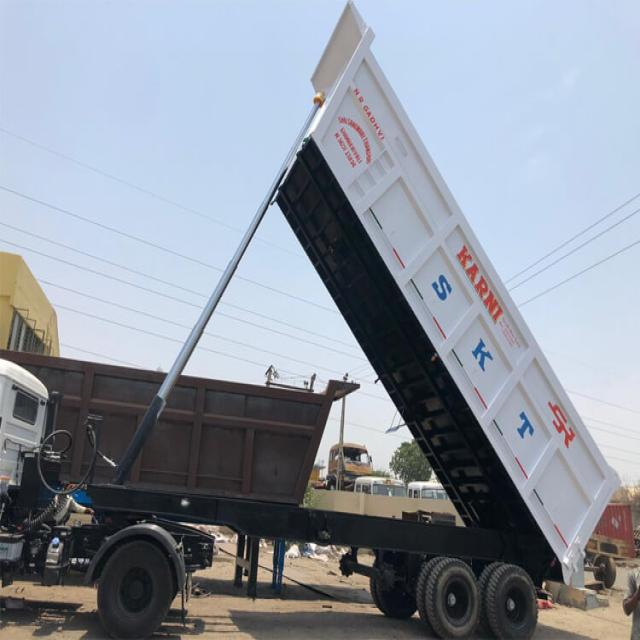truck: (0, 4, 619, 638), (74, 459, 76, 472)
